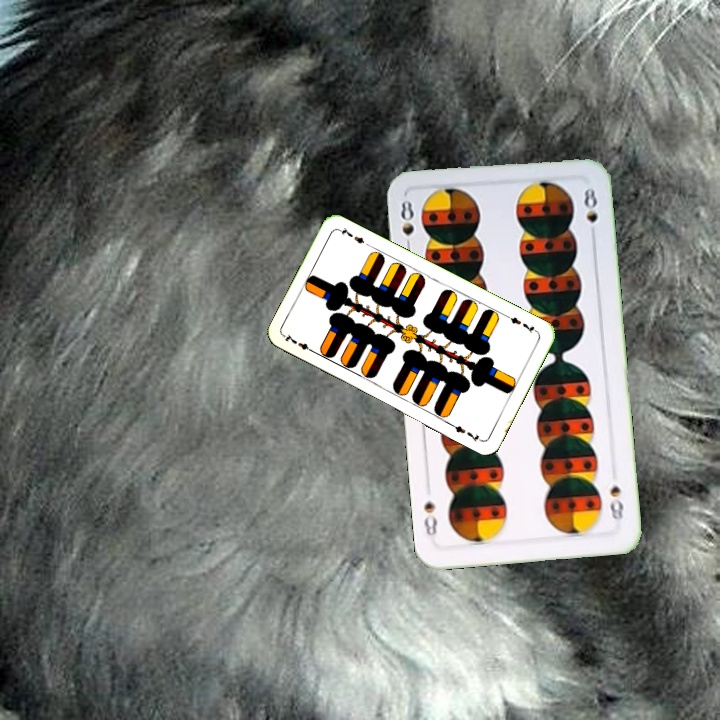E7: (280, 330, 318, 356), (502, 312, 540, 336)
S8: (396, 196, 417, 255), (605, 481, 626, 528)
